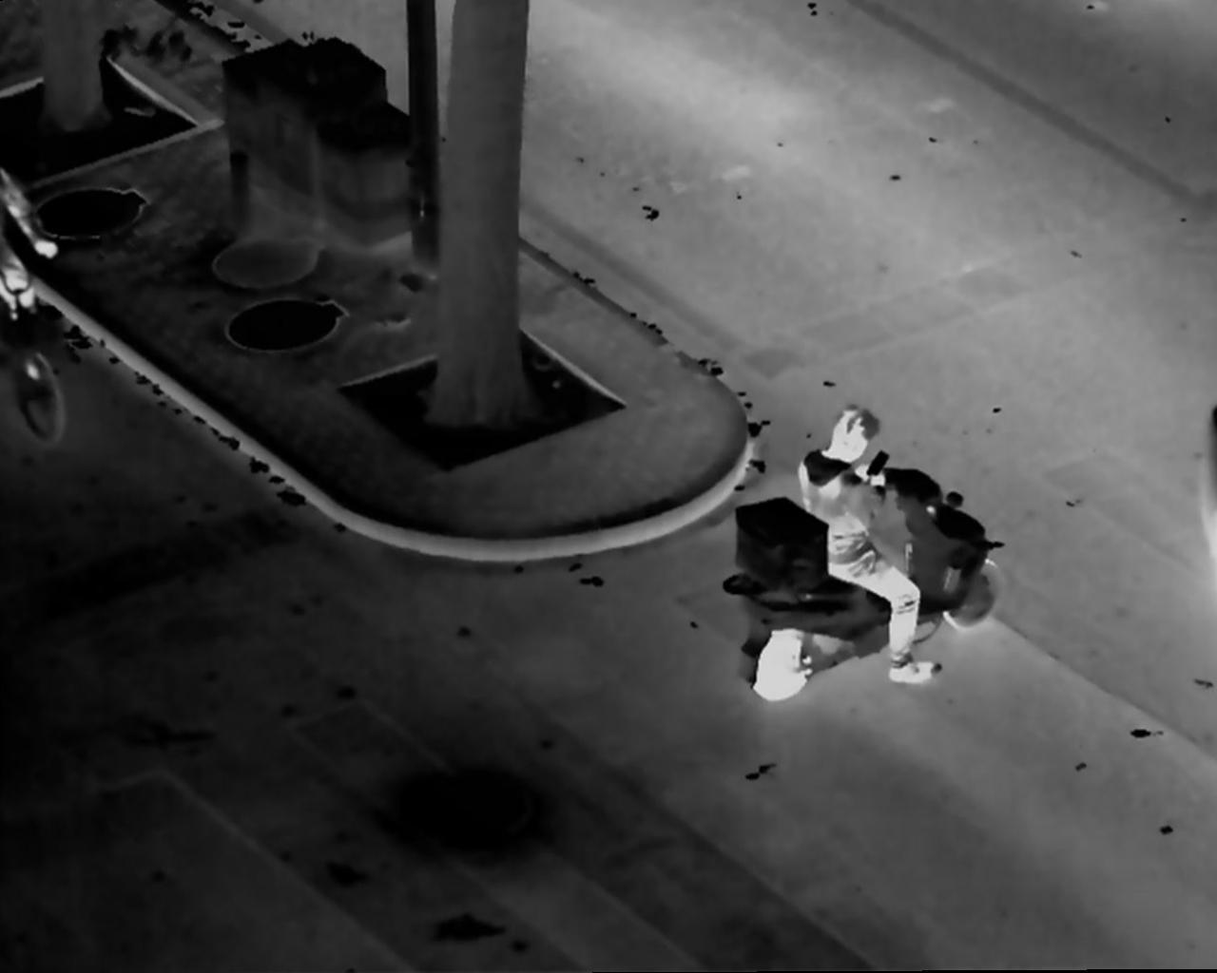person: (791, 401, 951, 687)
